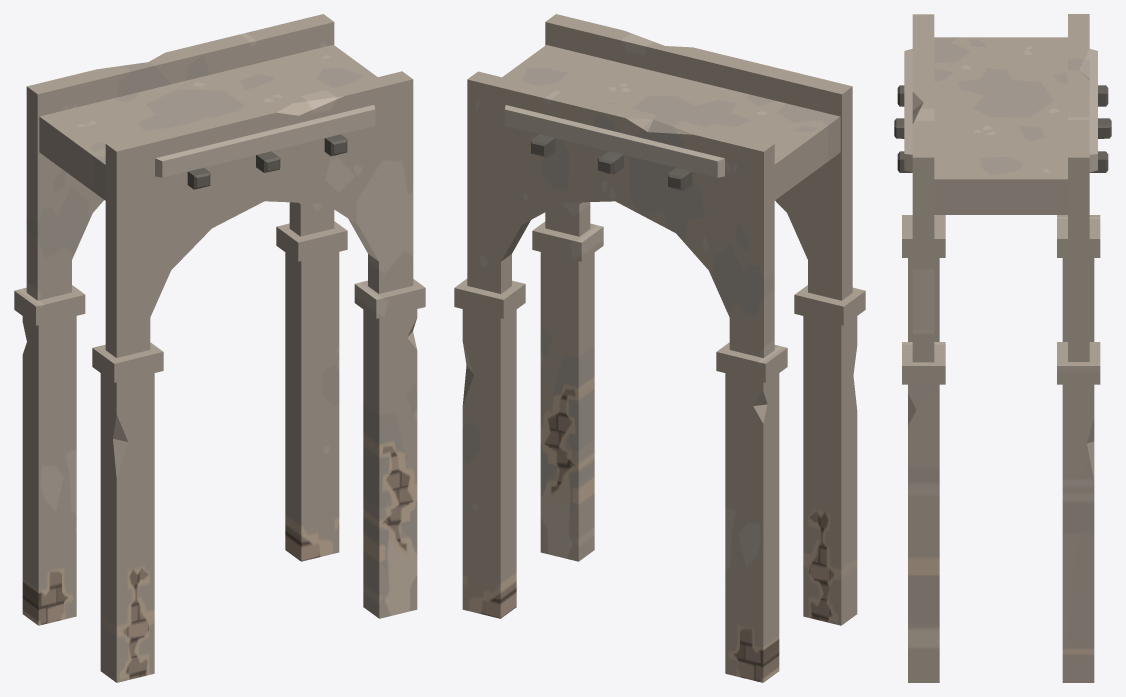
The model's file is SM_Bld_Village_ArchwayBridge_01.fbx.
3 renders of one model, left to right at view 1: azimuth 30°, elevation 25°; view 2: azimuth 150°, elevation 25°; view 3: azimuth 270°, elevation 25°, orthographic.
Visible parts, largest first — view 1: SM_Bld_Village_ArchwayBridge_01; view 2: SM_Bld_Village_ArchwayBridge_01; view 3: SM_Bld_Village_ArchwayBridge_01.
Part boxes in pixels (x1=…): SM_Bld_Village_ArchwayBridge_01: x1=14, y1=14, x2=425, y2=682; SM_Bld_Village_ArchwayBridge_01: x1=454, y1=14, x2=865, y2=682; SM_Bld_Village_ArchwayBridge_01: x1=894, y1=14, x2=1111, y2=682.
Size of the model in its own units: 411 by 667 by 251.
